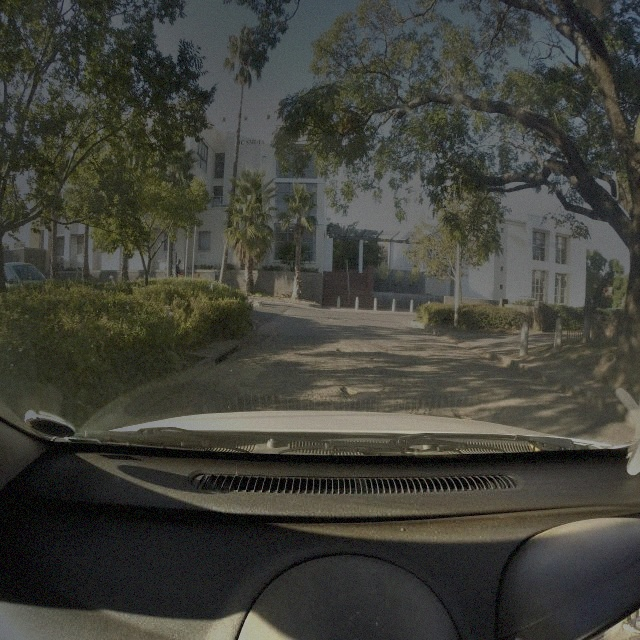pothole: (339, 383, 357, 399)
